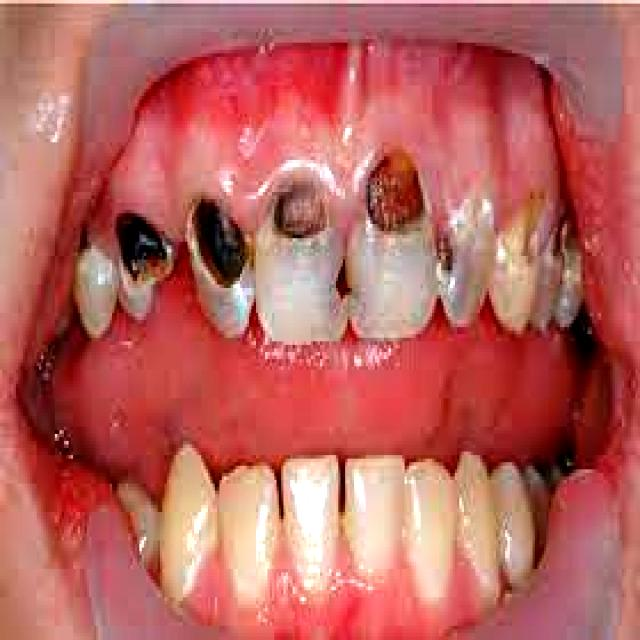cariess: (194, 199, 247, 284), (366, 149, 423, 228), (117, 213, 174, 277), (437, 220, 471, 320), (274, 185, 327, 235), (514, 206, 537, 260)
